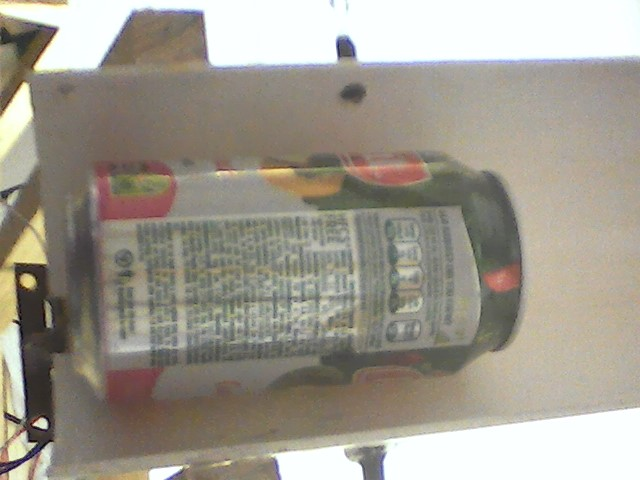lata: (59, 144, 530, 409)
